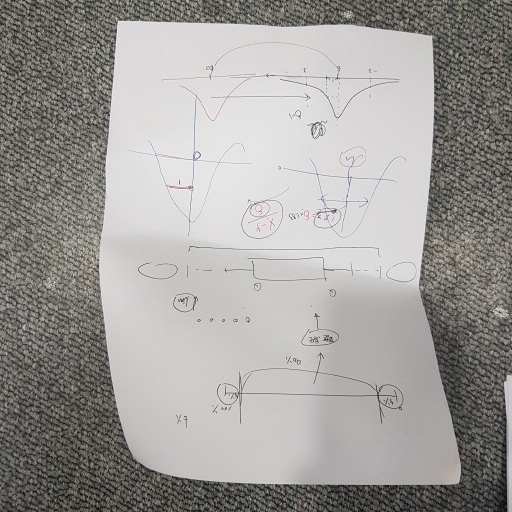Paper_3: (86, 4, 480, 511)
